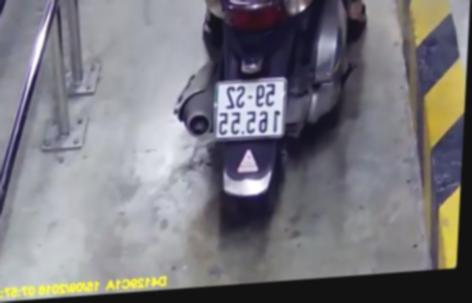License_Plate: (211, 73, 292, 147)
